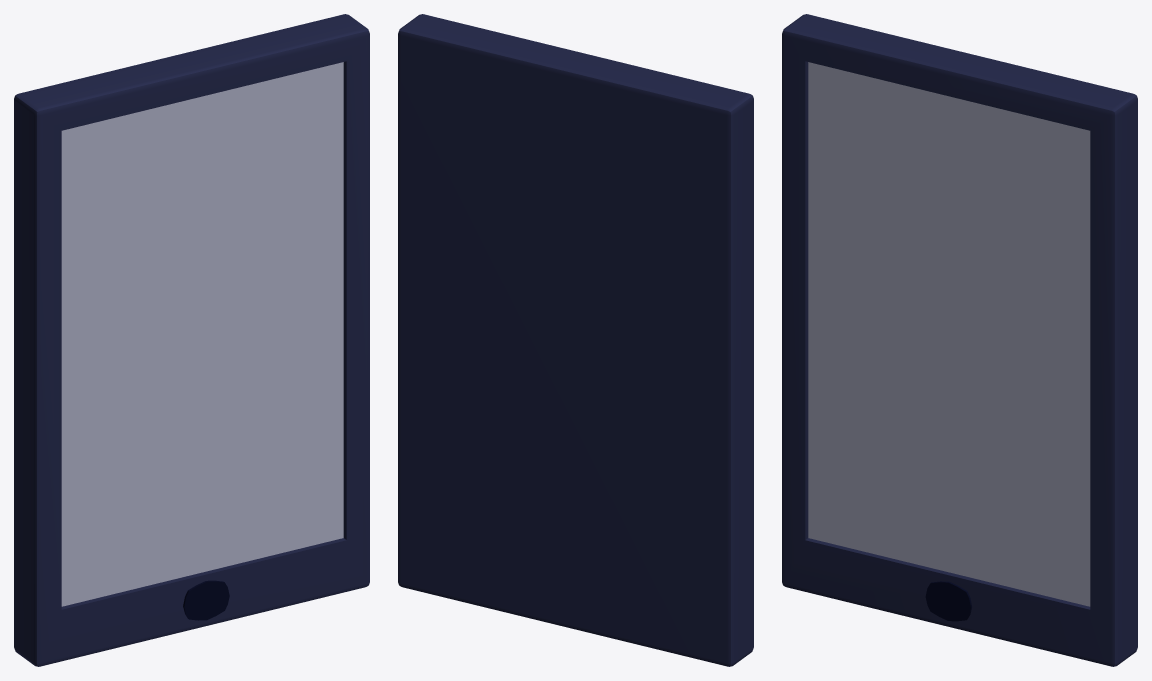
File: Phone.fbx
The picture shows the model from 3 angles, left to right: view 1: azimuth 30°, elevation 25°; view 2: azimuth 150°, elevation 25°; view 3: azimuth 330°, elevation 25°; orthographic projection.
Visible parts, largest first — view 1: Phone; view 2: Phone; view 3: Phone.
Boxes of the visible parts, x1,y1,x2,y2 form: Phone: [14, 14, 369, 666]; Phone: [398, 14, 753, 666]; Phone: [782, 14, 1137, 666].
Bounding box in the file's own units: 1.34 × 2.13 × 0.1762.
